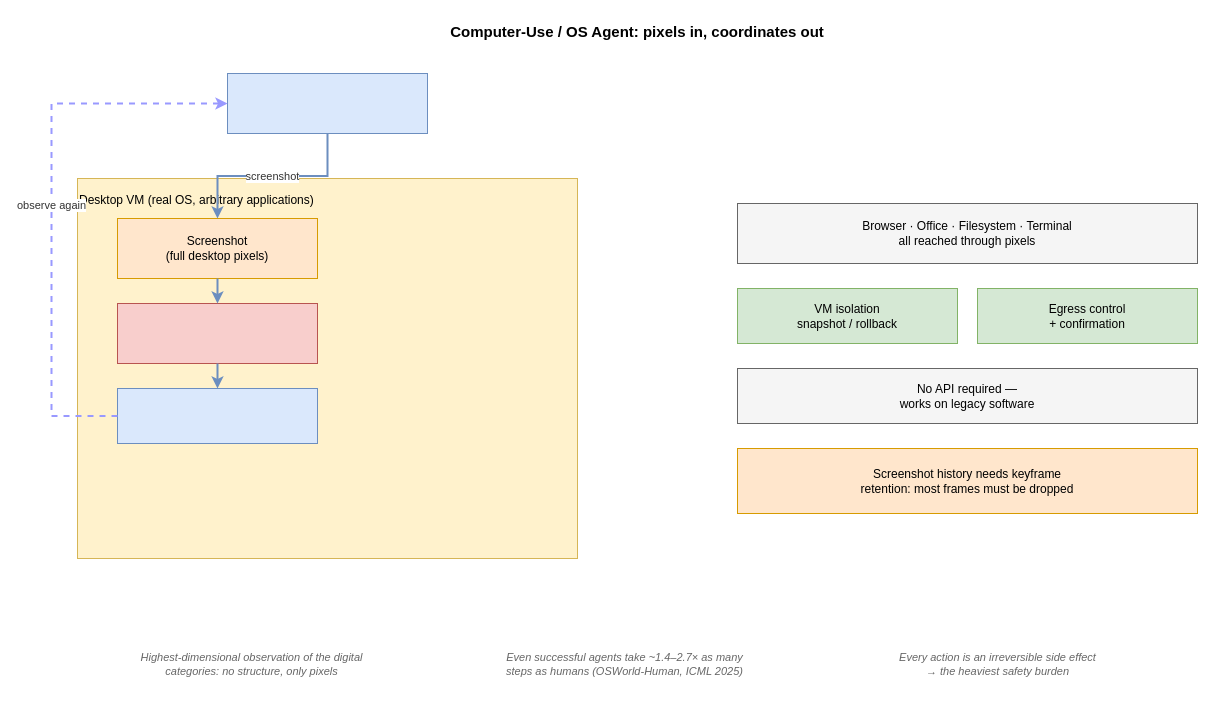
Some shapes in this 1215 by 710 pixel diagram are drawn without their labels. The centre of each missing label's shape, as x and y in pixels:
Agent: (327,103)
click(x,y) · type · key · scroll: (217,416)
Grounding by vision "the Save button" → (x, y): (217,333)
